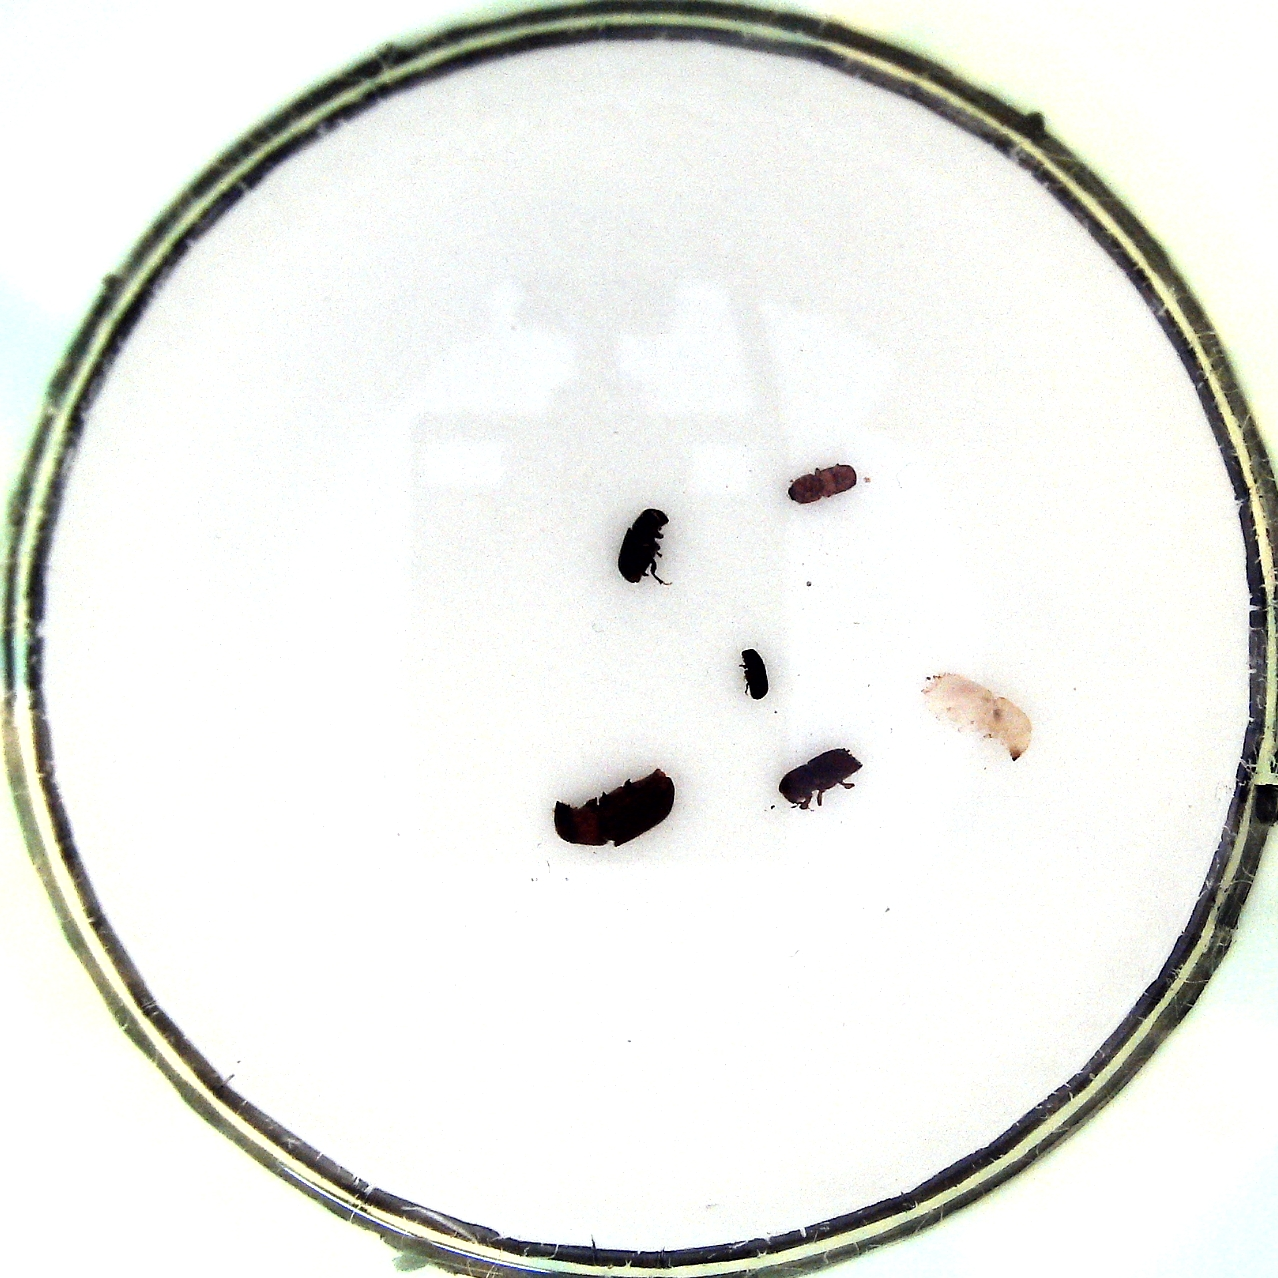Boerner: (915, 671, 1035, 761)
Leconte: (547, 763, 680, 856)
Linnaeus: (775, 745, 864, 815)
acuminatus: (786, 459, 860, 506)
armandi: (613, 504, 675, 586)
coleoptera: (731, 648, 777, 702)
